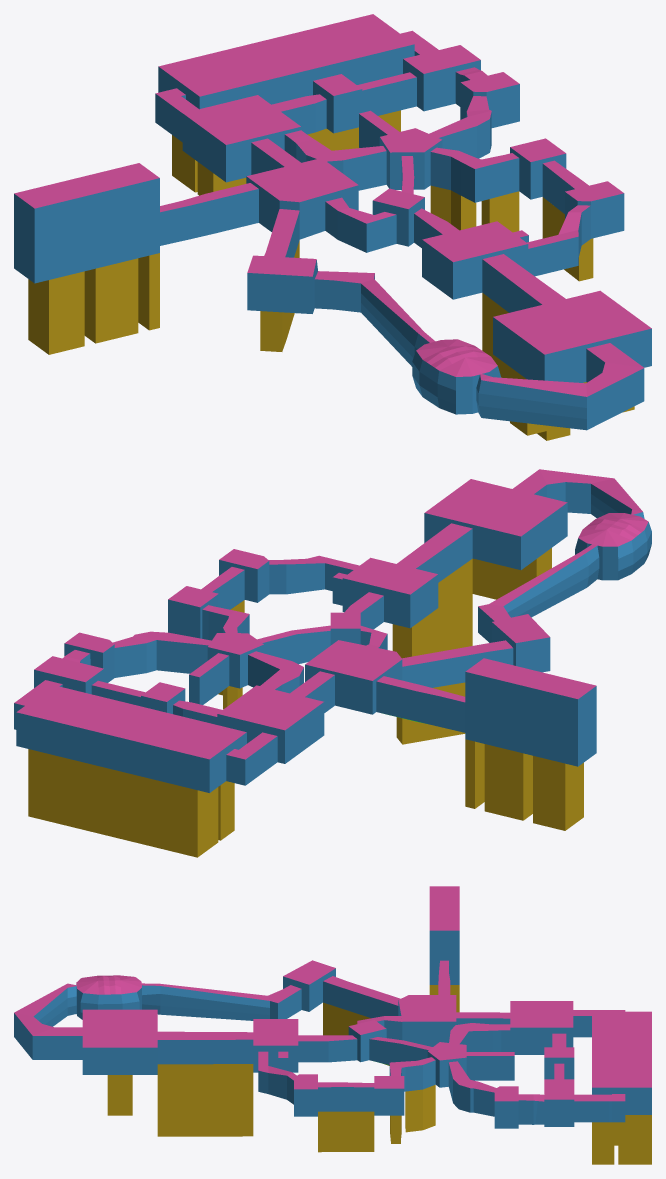
Rendered from maybe_2.fbx.
The picture shows the model from 3 angles, top to bottom: view 1: azimuth 30°, elevation 25°; view 2: azimuth 150°, elevation 25°; view 3: azimuth 270°, elevation 25°; orthographic projection. The views are drawn at different scales.
Visible parts, largest first — view 1: fire_tele_corner_room; view 2: fire_tele_corner_room; view 3: fire_tele_corner_room.
Part boxes in pixels (x1,y1,x2,y2): fire_tele_corner_room: (14,14,651,440); fire_tele_corner_room: (14,469,651,857); fire_tele_corner_room: (14,886,651,1164).
Bounding box in the file's own units: 14805 × 4661 × 21244.
